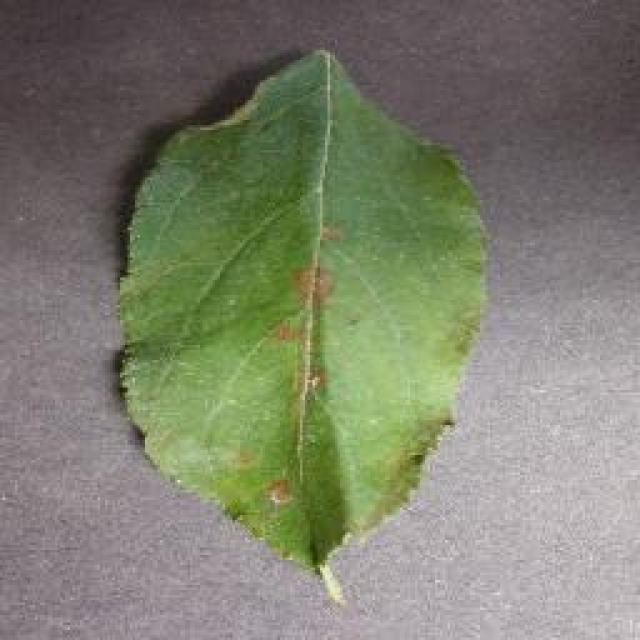apple cedar apple rust: (112, 45, 490, 600)
